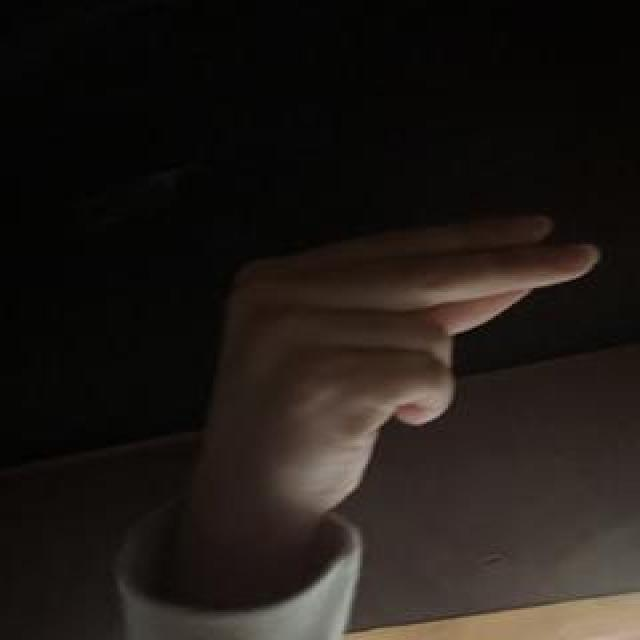H: (187, 200, 624, 520)
